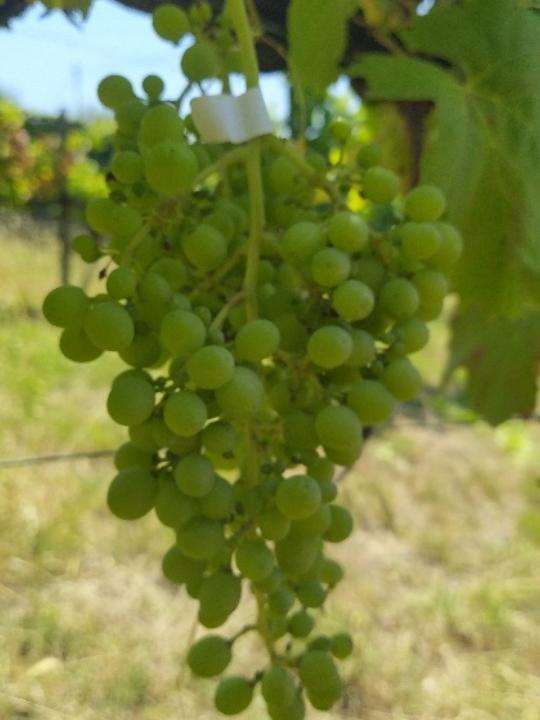grape: (41, 74, 467, 720)
